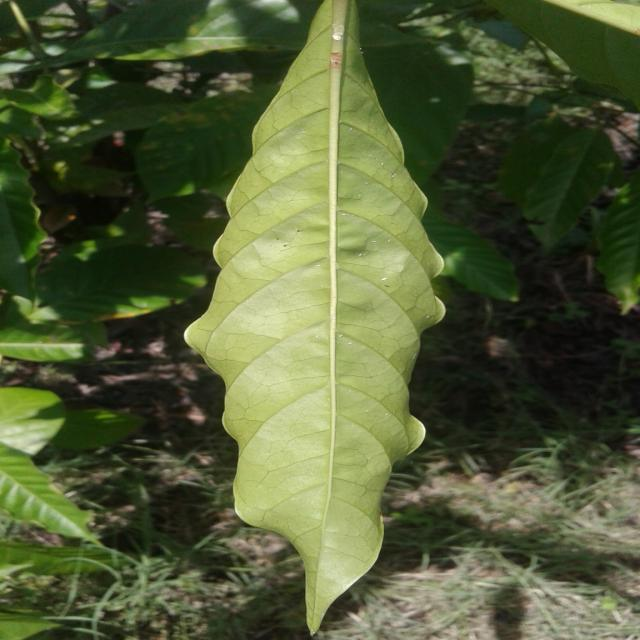Sanas: (183, 0, 455, 630)
